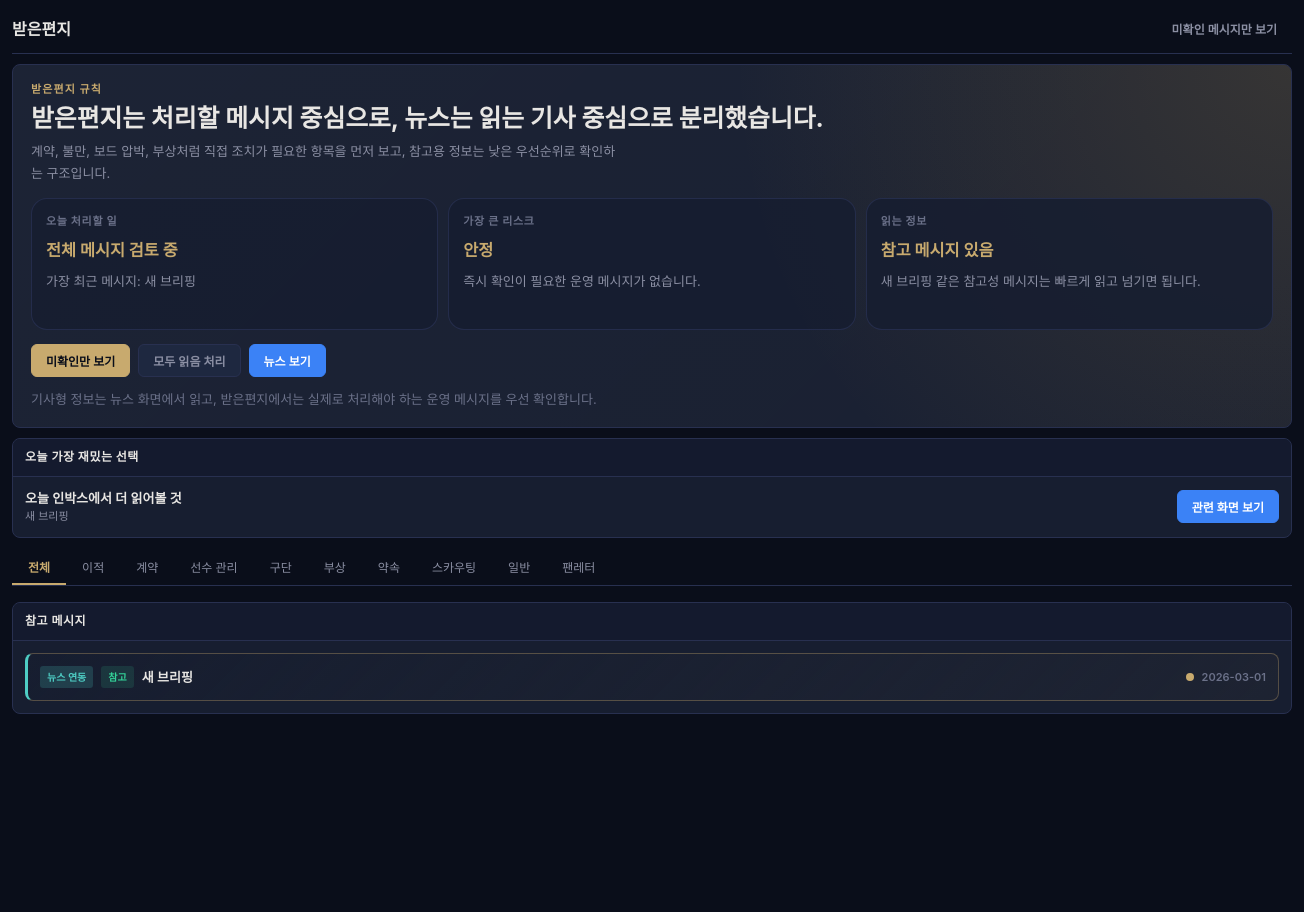
it: InboxView › shows empty state only in unread-only mode after a message is read
Expected: the text "새 브리핑" below "오늘 인박스에서 더 읽어볼 것" is shown, [25, 509, 69, 523]
Click the button "뉴스 연동 참고 새 브리핑 2026-03-01" at x=67, y=677, box [40, 666, 1266, 688]
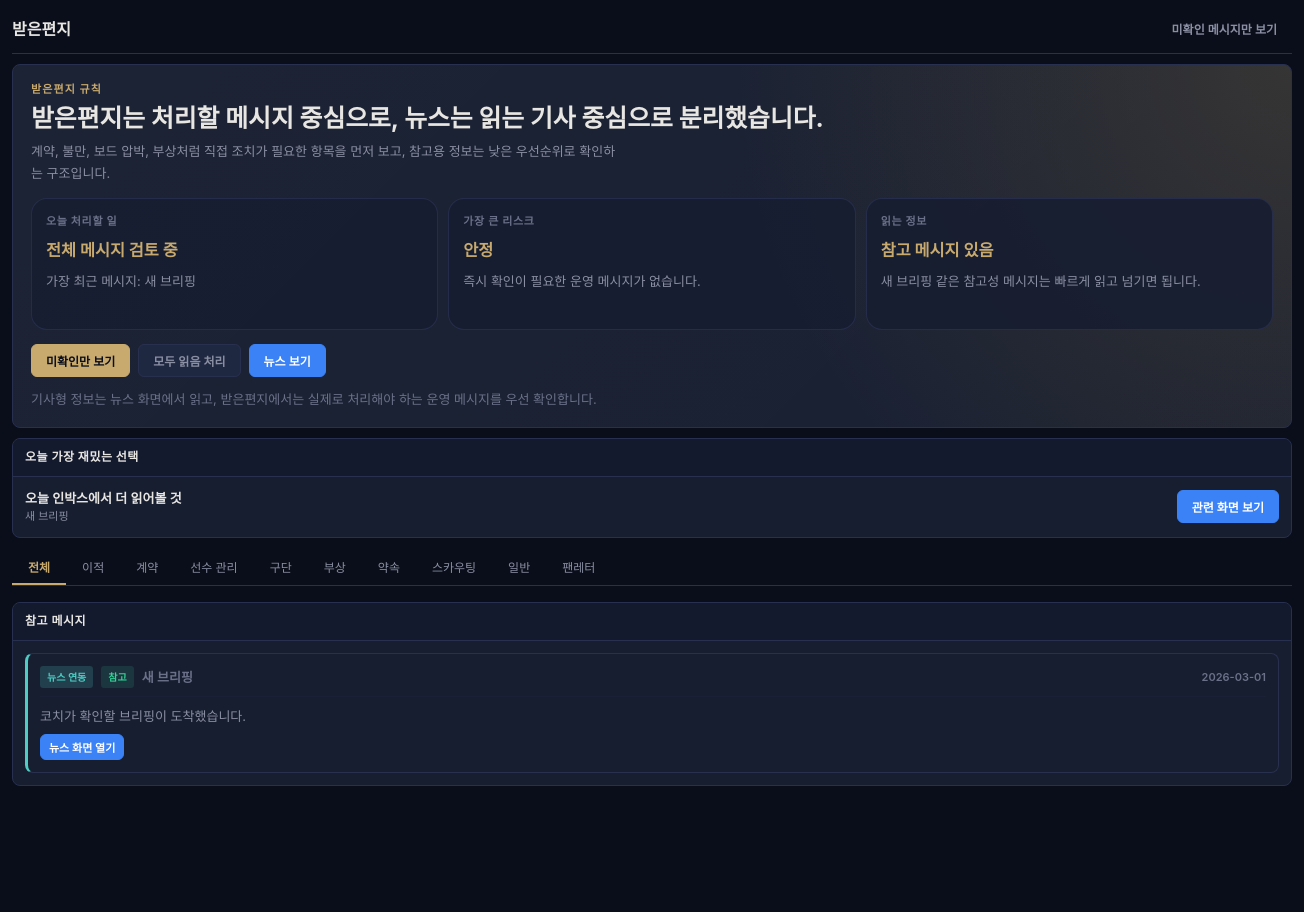
Click the button "미확인 메시지만 보기" at x=1224, y=28, box [1157, 12, 1292, 45]
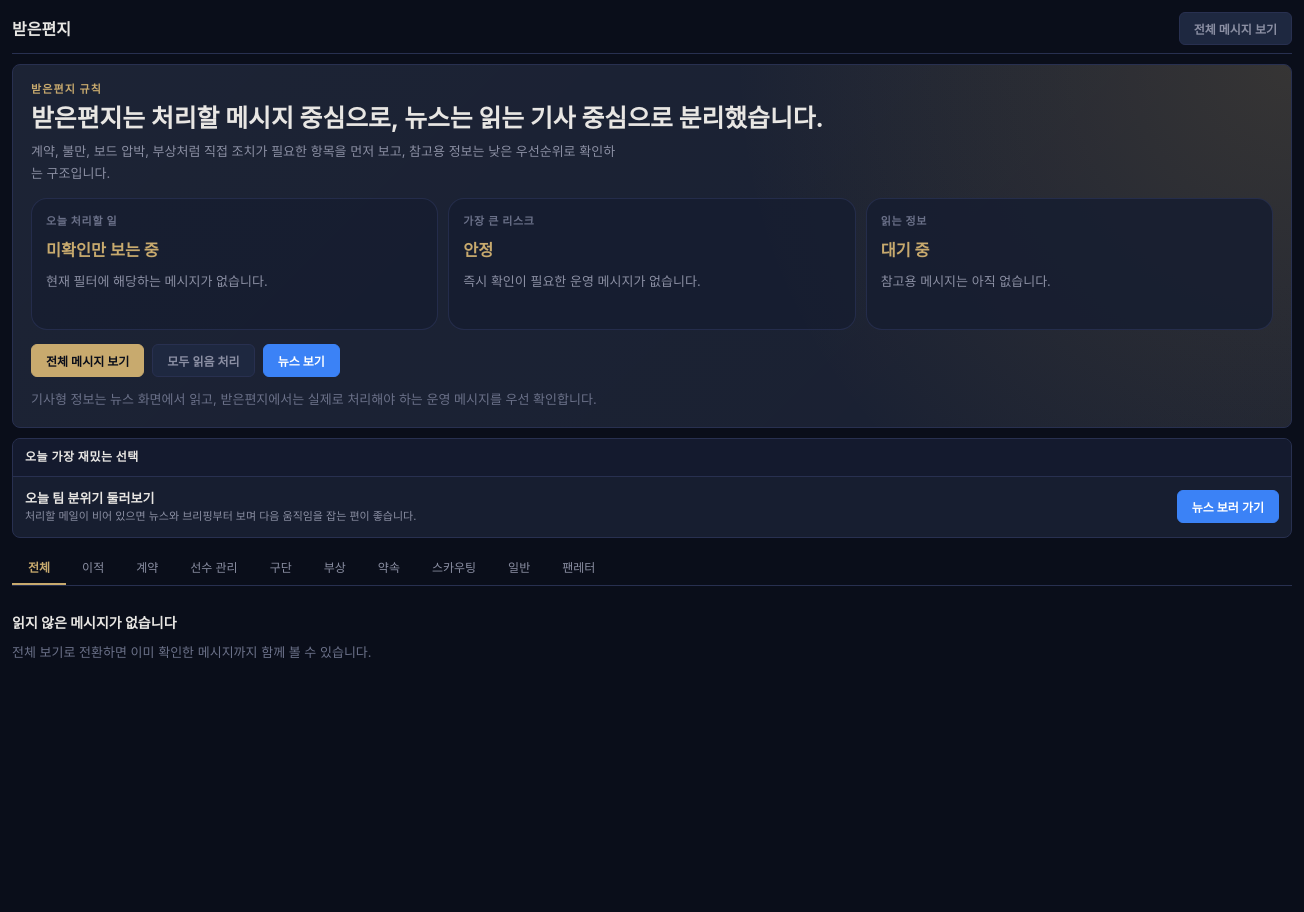
Result: the text "읽지 않은 메시지가 없습니다" is shown at [12, 612, 176, 633]
